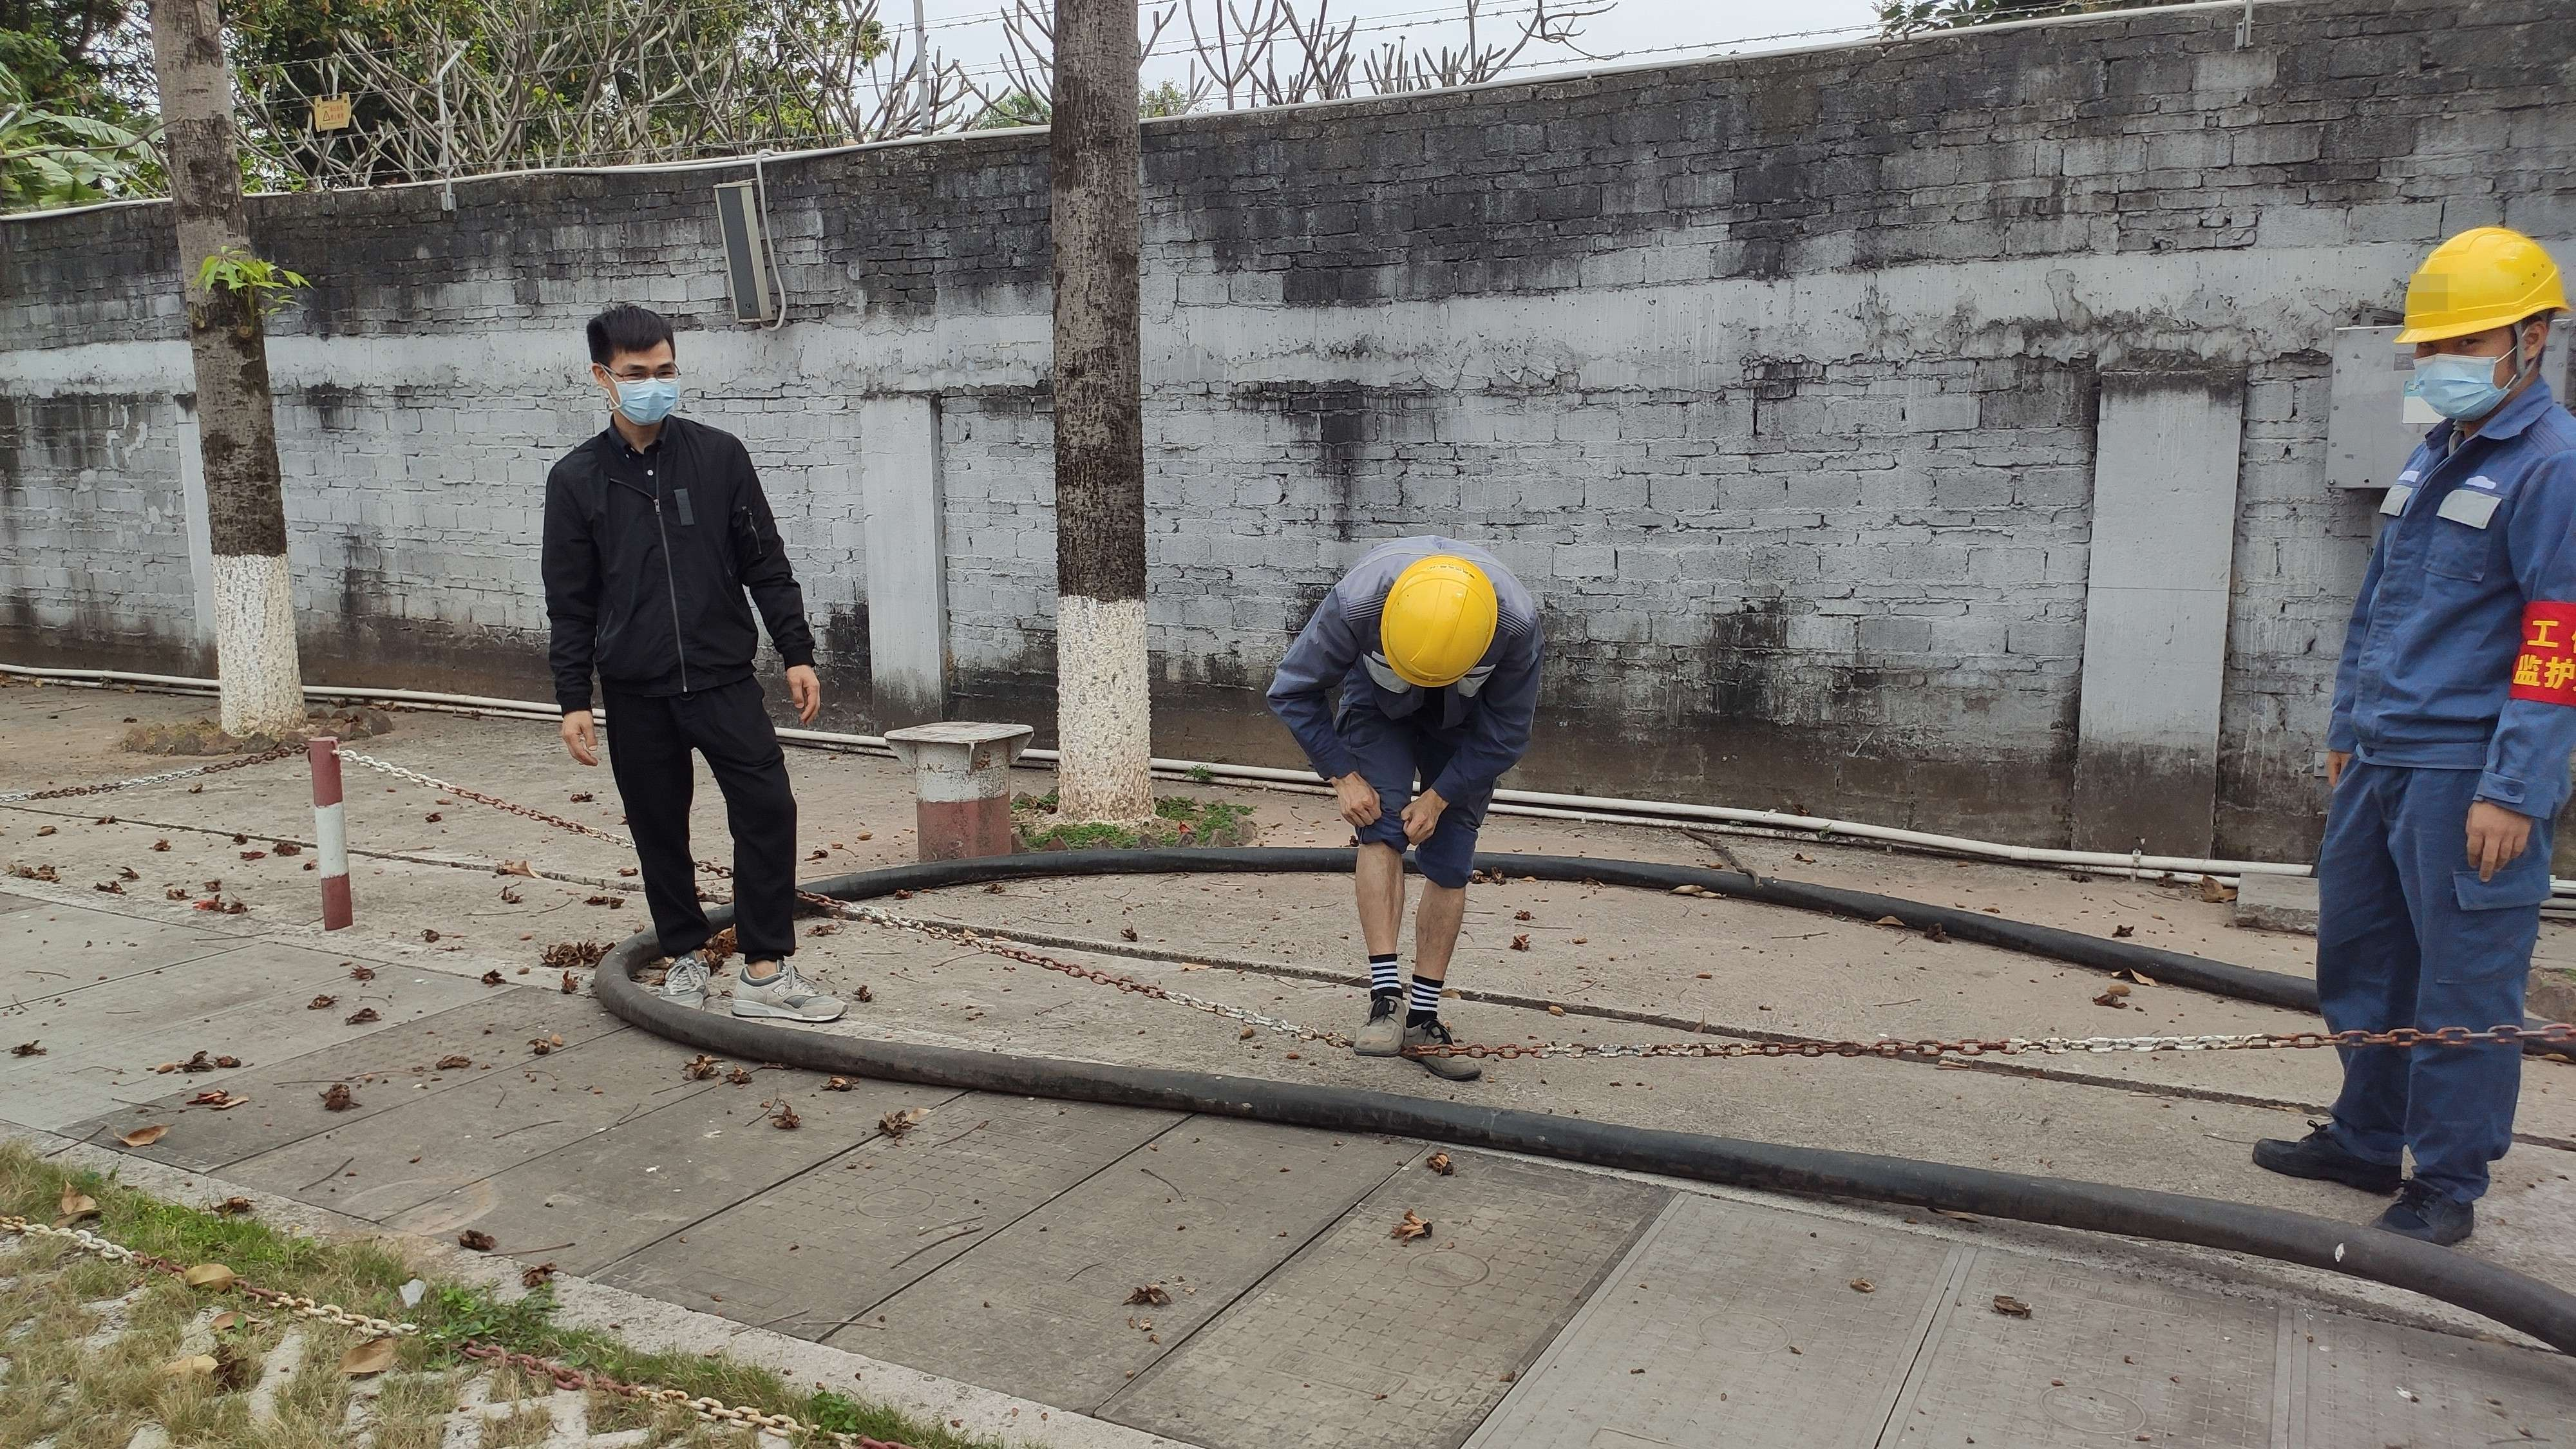downcloth: (607, 706, 803, 961)
downsuit: (2307, 782, 2572, 1189)
upcloth: (538, 418, 816, 674)
upsuit: (2325, 389, 2576, 757), (1265, 540, 1548, 738)
wrongbottom: (1348, 828, 1481, 996)
